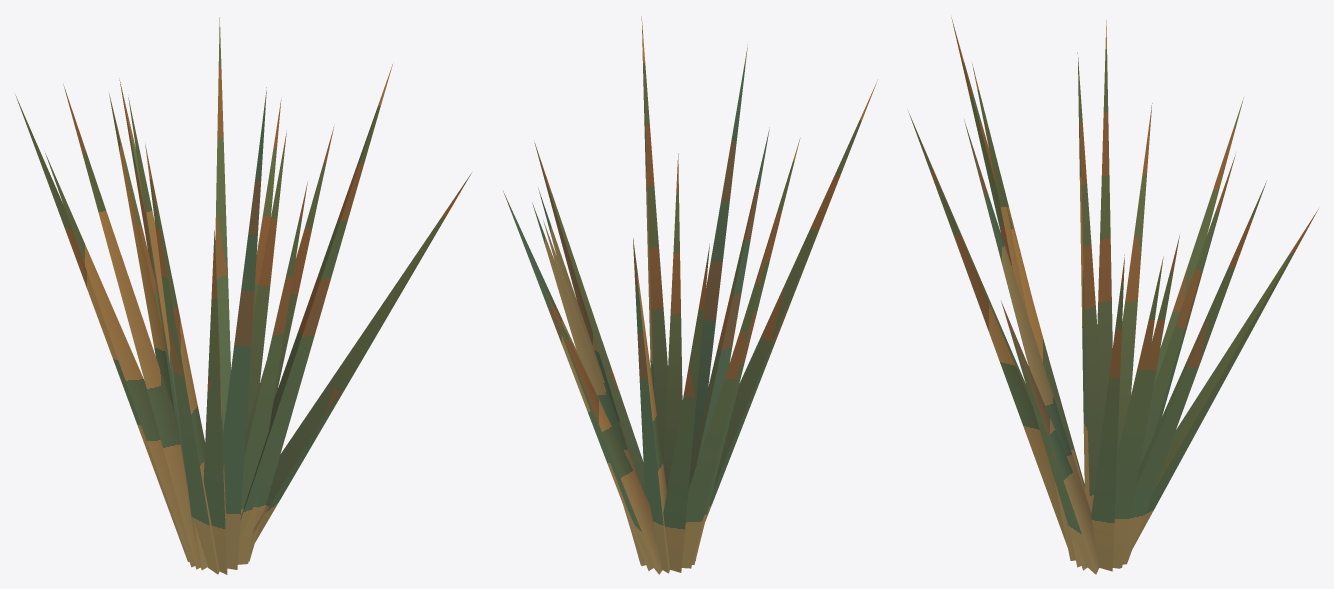
File: wland.grass__tall.glb
The picture shows the model from 3 angles, left to right: view 1: azimuth 30°, elevation 25°; view 2: azimuth 150°, elevation 25°; view 3: azimuth 270°, elevation 25°; orthographic projection. The views are drawn at different scales.
Parts seen in each view (by area): view 1: kit_blades; view 2: kit_blades; view 3: kit_blades.
Part boxes in pixels (x1,y1,x2,y2): kit_blades: (15, 17, 471, 574); kit_blades: (503, 16, 877, 574); kit_blades: (908, 17, 1318, 574).
Bounding box in the file's own units: 0.5635 × 0.8082 × 0.6118.
Materials: 1 (1 with a texture image).
